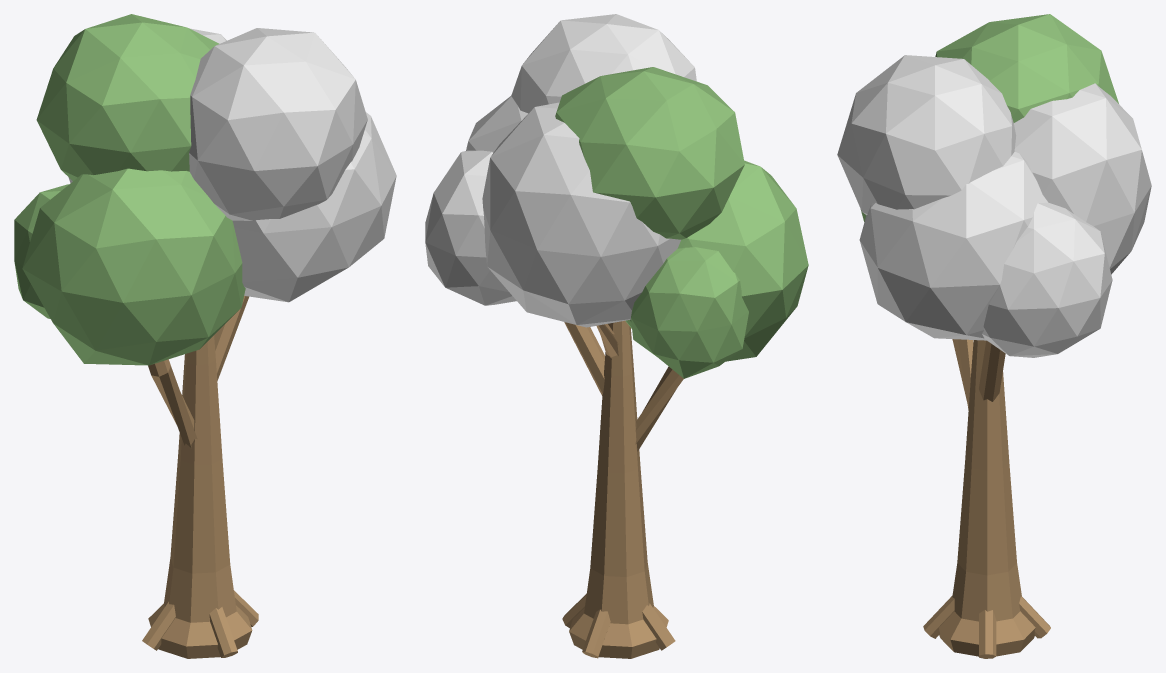
Rendered from Decorative_Tree.fbx.
The picture shows the model from 3 angles, left to right: view 1: azimuth 30°, elevation 25°; view 2: azimuth 150°, elevation 25°; view 3: azimuth 270°, elevation 25°; orthographic projection. The views are drawn at different scales.
Parts seen in each view (by area): view 1: Decorative_Tree__LPCXFER; view 2: Decorative_Tree__LPCXFER; view 3: Decorative_Tree__LPCXFER.
Part boxes in pixels (left/top/right/bottom): Decorative_Tree__LPCXFER: left=14, top=14, right=396, bottom=658; Decorative_Tree__LPCXFER: left=425, top=14, right=808, bottom=658; Decorative_Tree__LPCXFER: left=837, top=14, right=1151, bottom=658.
Size of the model in its own units: 147 by 252 by 121.
